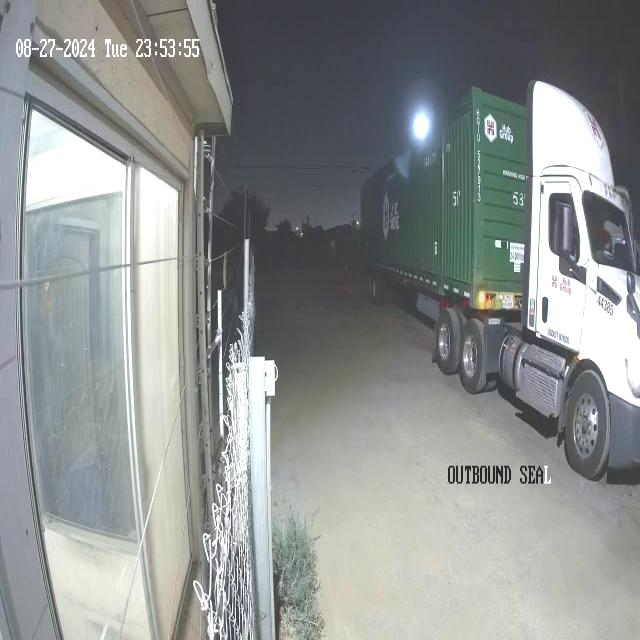CONTAINER: (359, 78, 533, 304)
